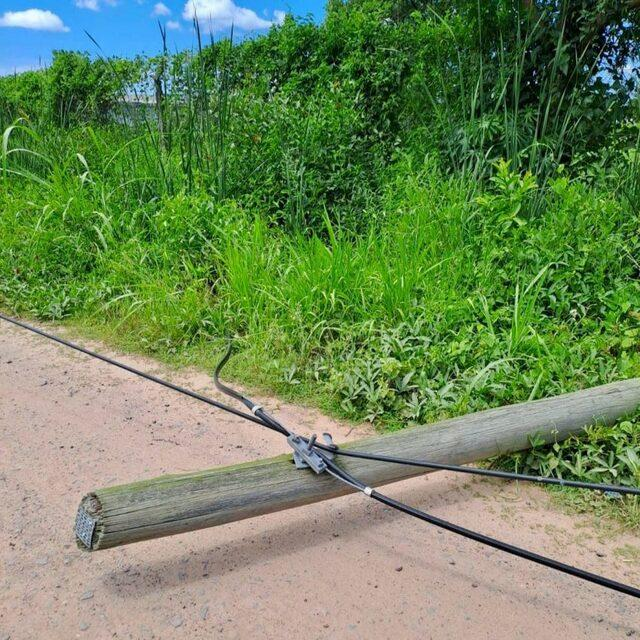Inclined Pole: (73, 375, 640, 555)
